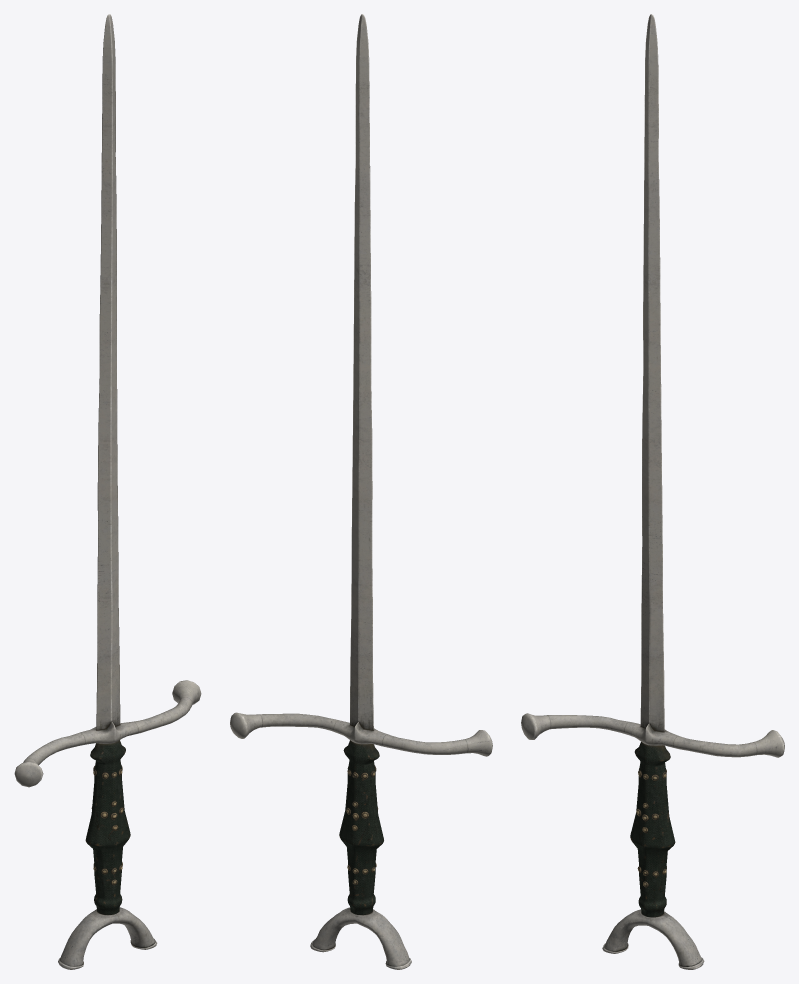
The model's file is antique_estoc.glb.
The picture shows the model from 3 angles, left to right: view 1: azimuth 30°, elevation 25°; view 2: azimuth 150°, elevation 25°; view 3: azimuth 330°, elevation 25°; orthographic projection.
Visible parts, largest first — view 1: antique_estoc; view 2: antique_estoc; view 3: antique_estoc.
Boxes of the visible parts, x1,y1,x2,y2 form: antique_estoc: [14, 14, 201, 969]; antique_estoc: [230, 14, 492, 969]; antique_estoc: [521, 14, 784, 969].
Bounding box in the file's own units: 0.3715 × 1.49 × 0.1491.
Materials: 1 (1 with a texture image).
